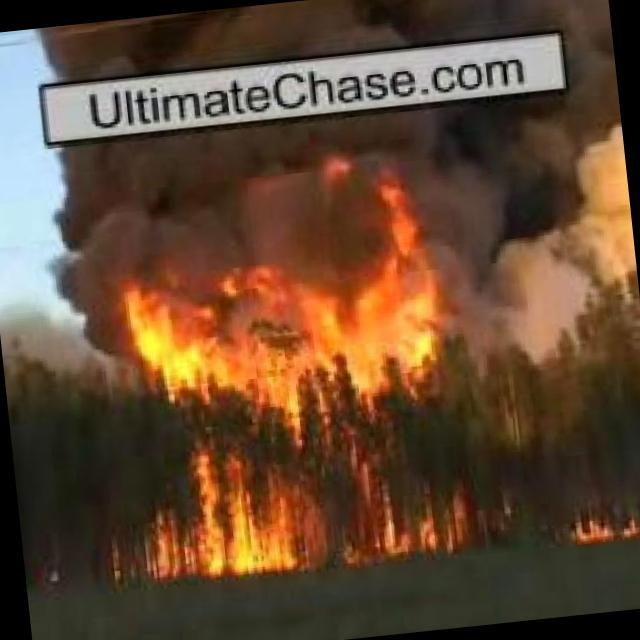Fire: (120, 230, 470, 583), (564, 509, 640, 547)
